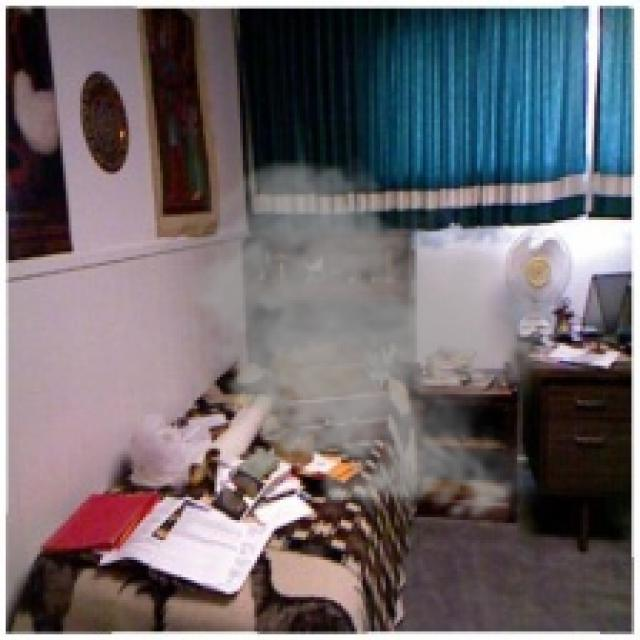smoke: (174, 152, 560, 532)
